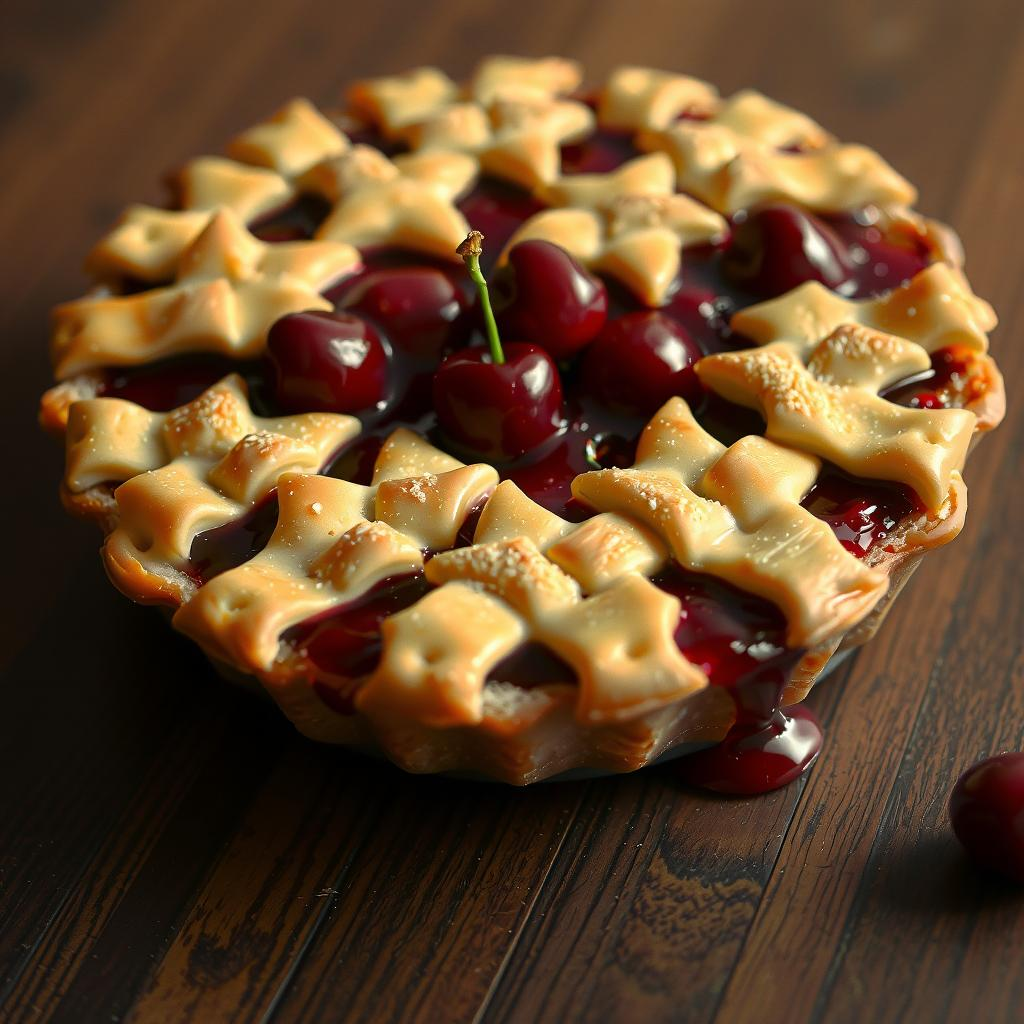pie: (33, 40, 1010, 787)
